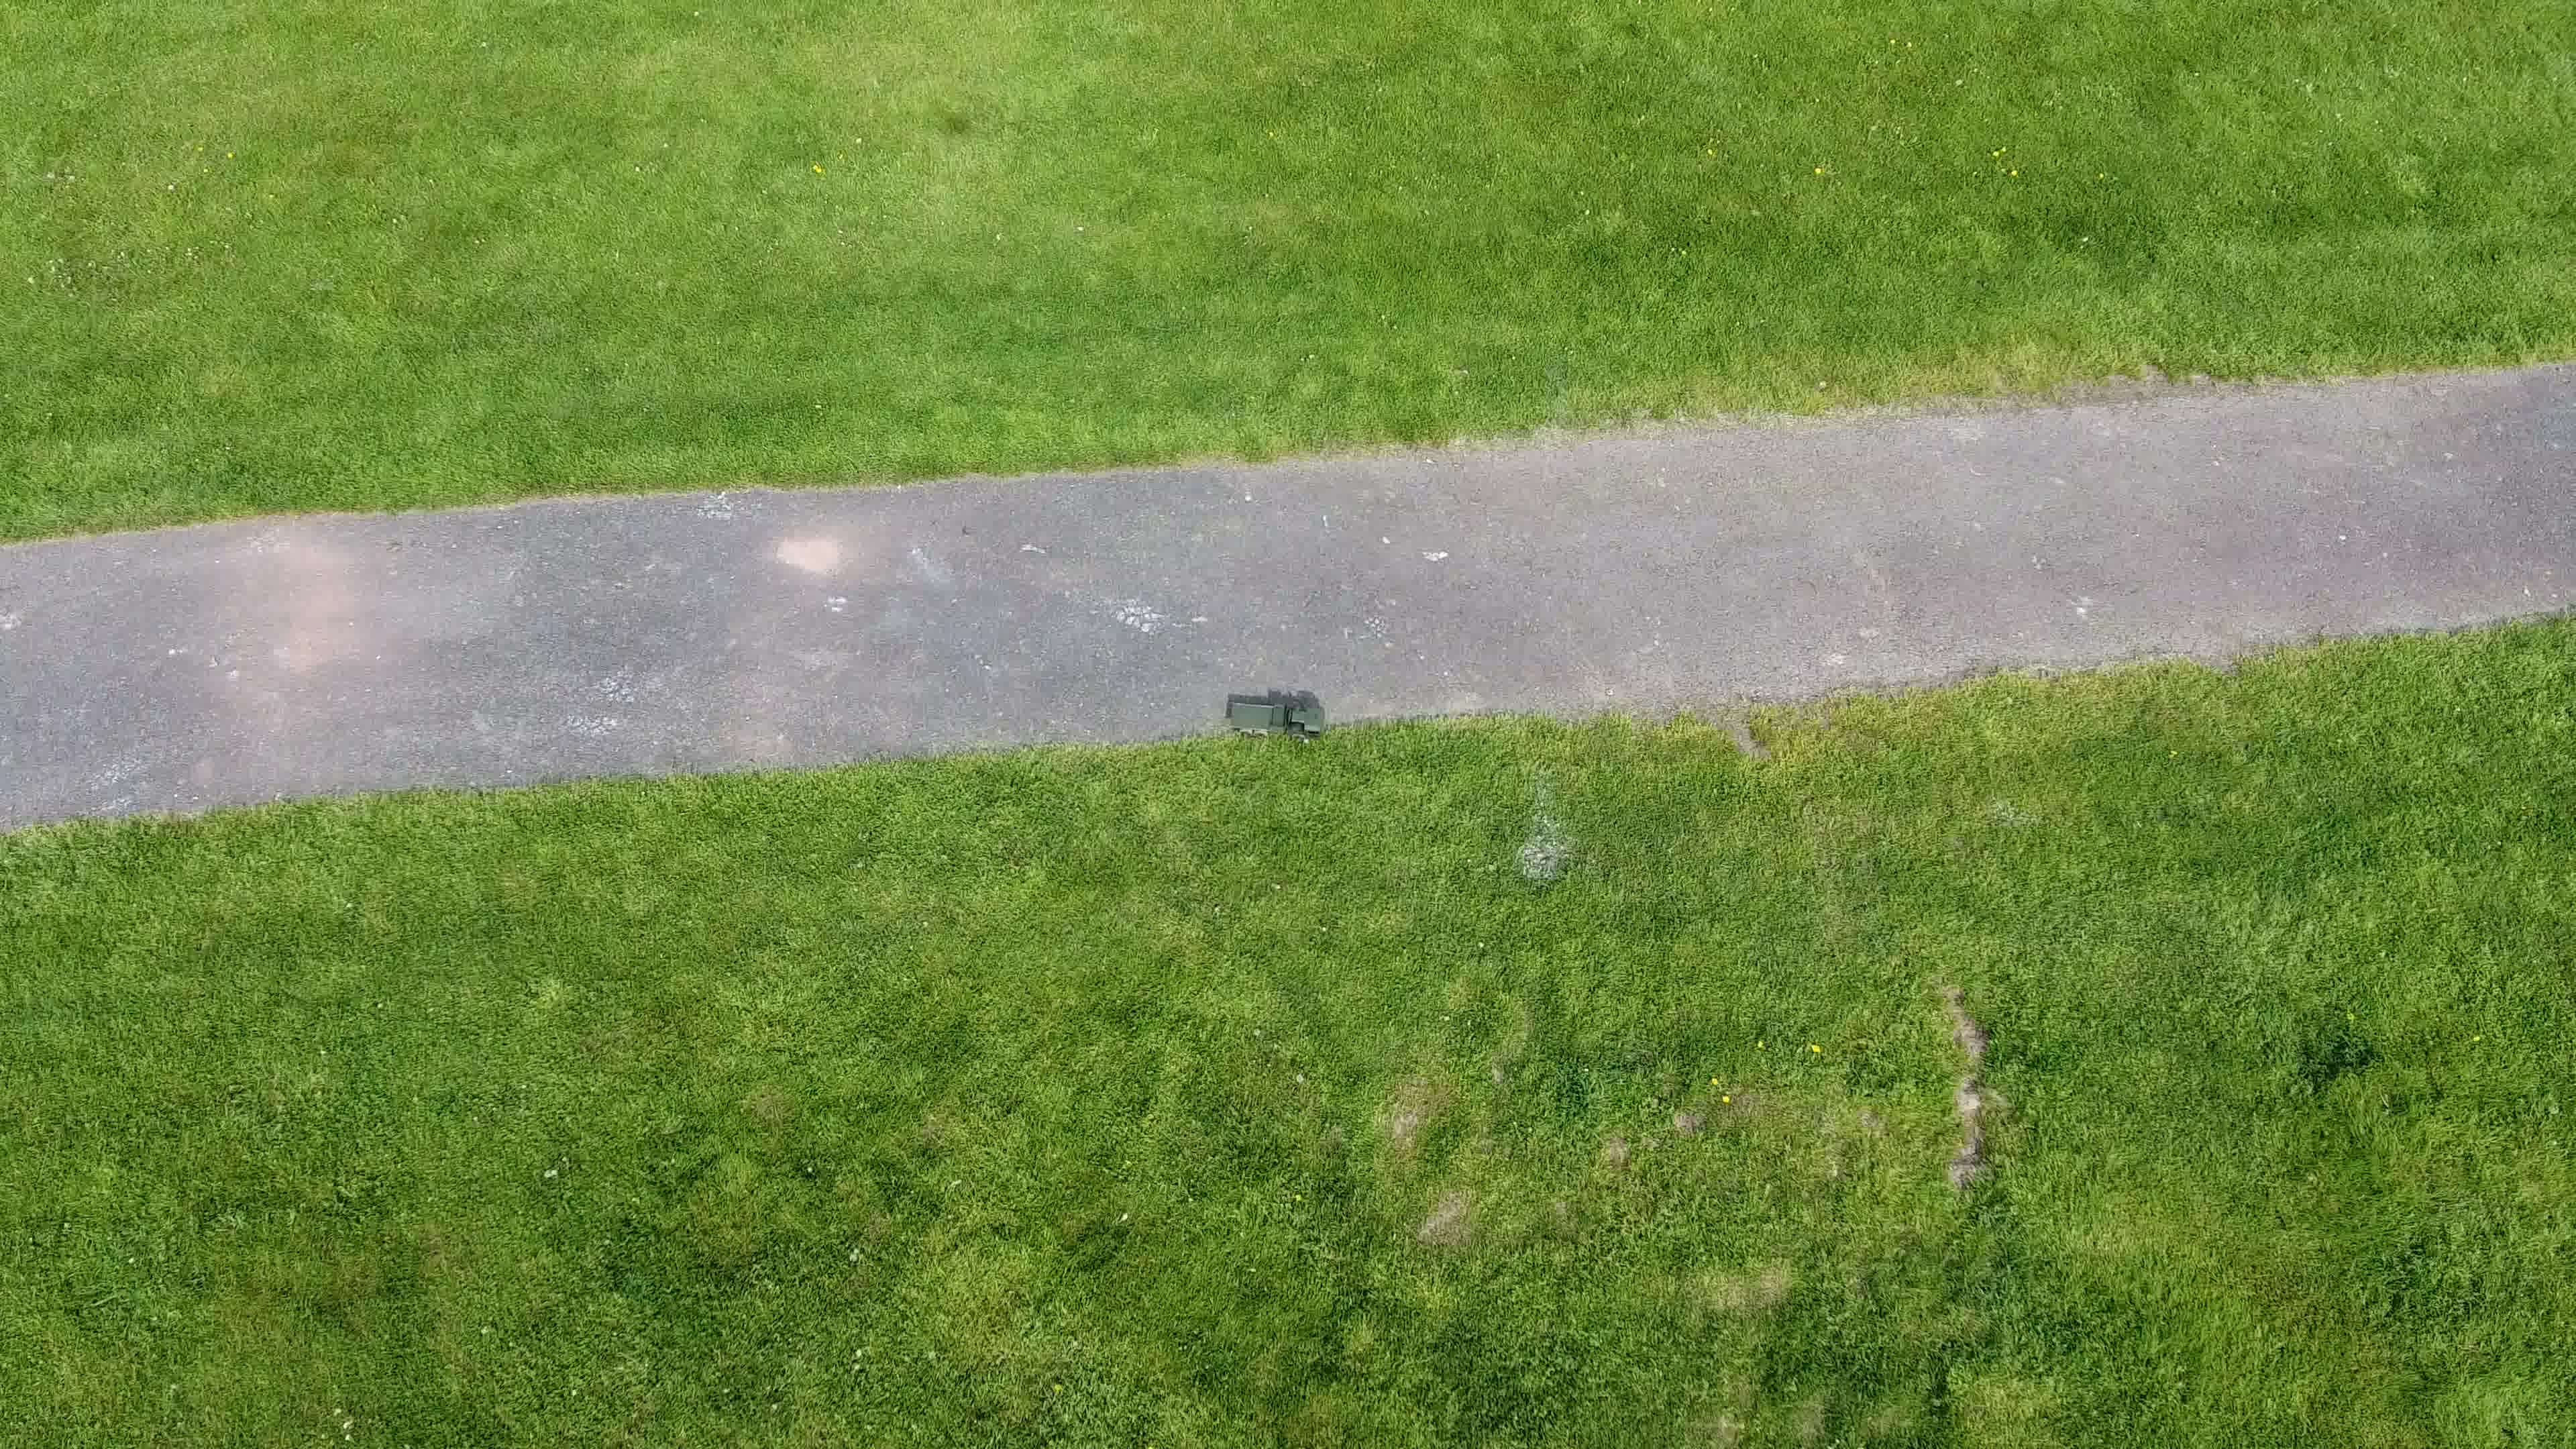transporter9: (1224, 692, 1327, 745)
